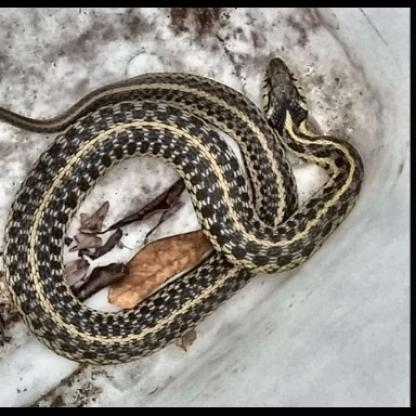Snake: (9, 51, 365, 380)
